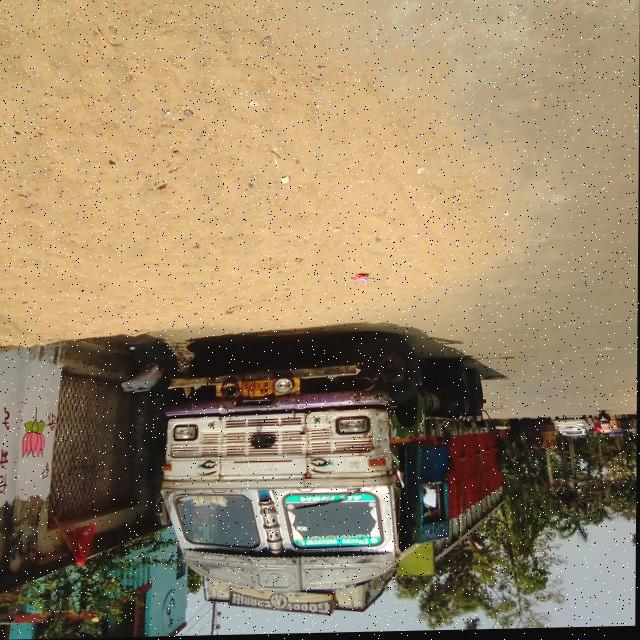plate: (242, 380, 275, 398), (566, 428, 575, 431), (601, 421, 606, 424)
